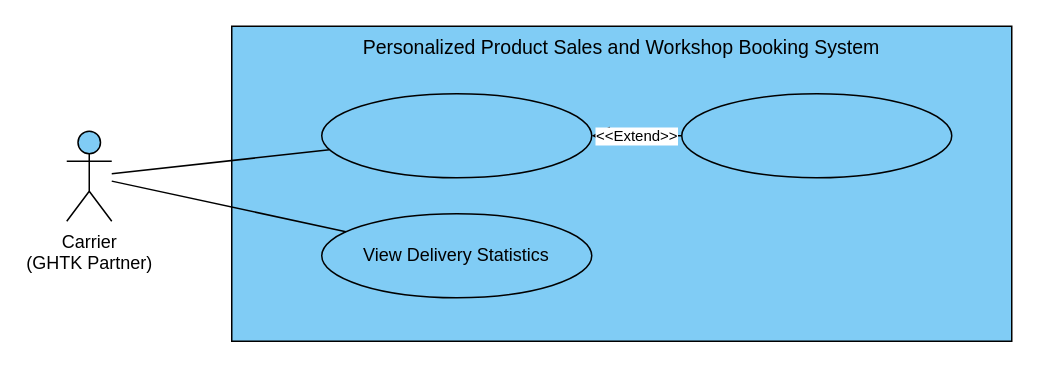
Some shapes in this 1038 by 368 pixel diagram are drawn without their labels. The centre of each missing label's shape, as x and y in pixels:
Update Shipment Status: the point at 816,135
View Shipments: the point at 456,135
